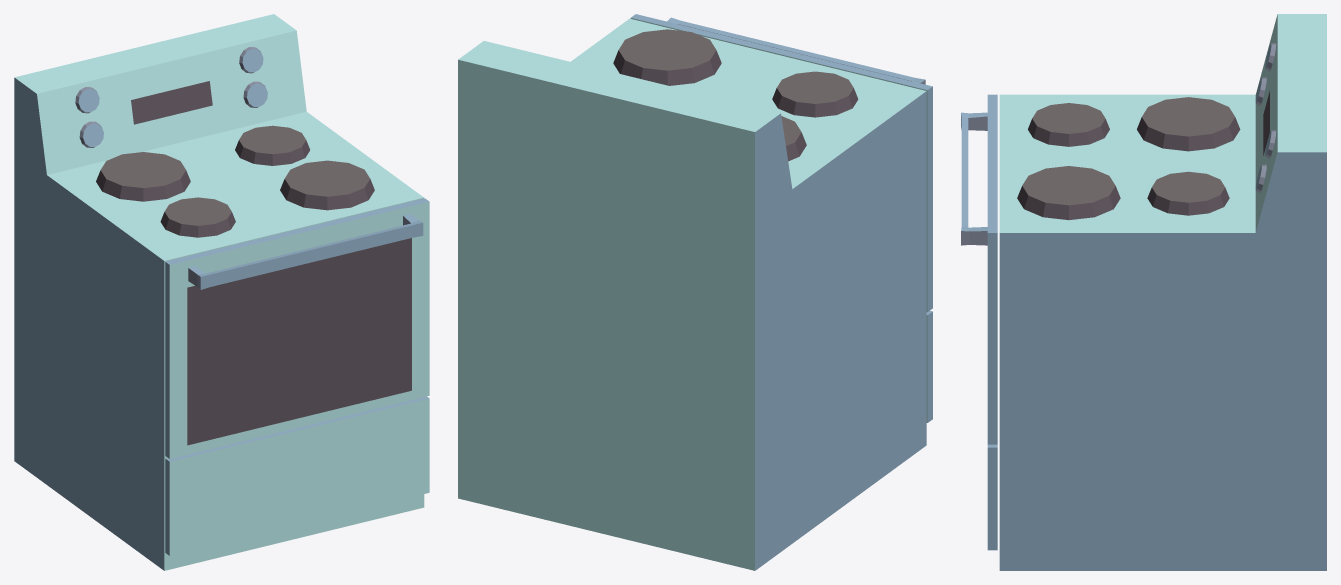
Rendered from Oven.fbx.
3 views of the same model, side by side, from view 1: azimuth 30°, elevation 25°; view 2: azimuth 150°, elevation 25°; view 3: azimuth 270°, elevation 25° (orthographic). The views are drawn at different scales.
Visible parts, largest first — view 1: Oven; view 2: Oven; view 3: Oven.
Part boxes in pixels (box(x1,y1,x2,y2)): Oven: box(14, 14, 429, 570); Oven: box(458, 14, 932, 570); Oven: box(961, 14, 1326, 570).
Size of the model in its own units: 200 by 282 by 224.
